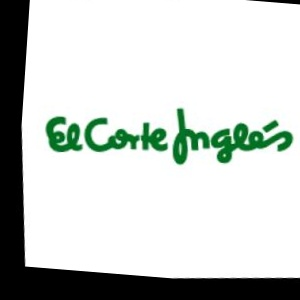corte_ingles: (286, 57, 300, 165)
